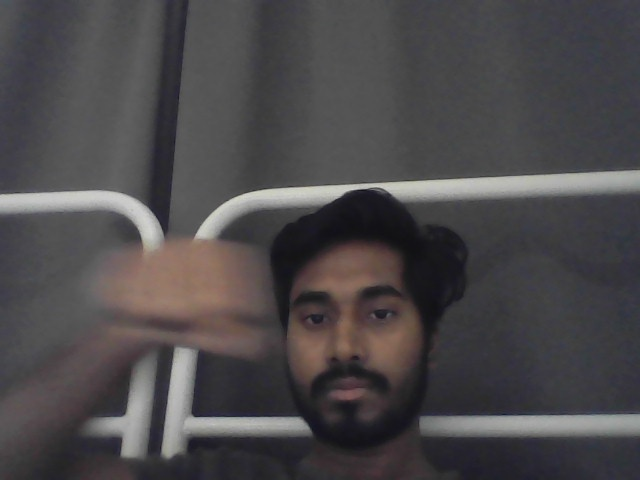yes: (93, 236, 277, 362)
